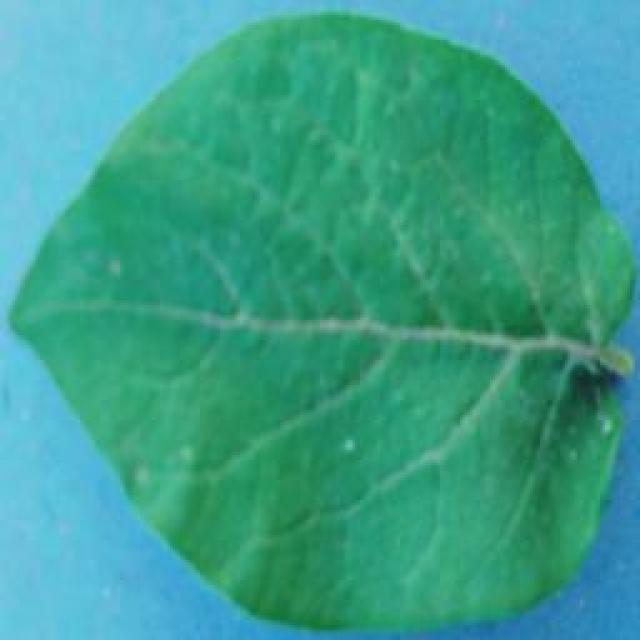Potato_Healthy: (7, 7, 626, 630)
